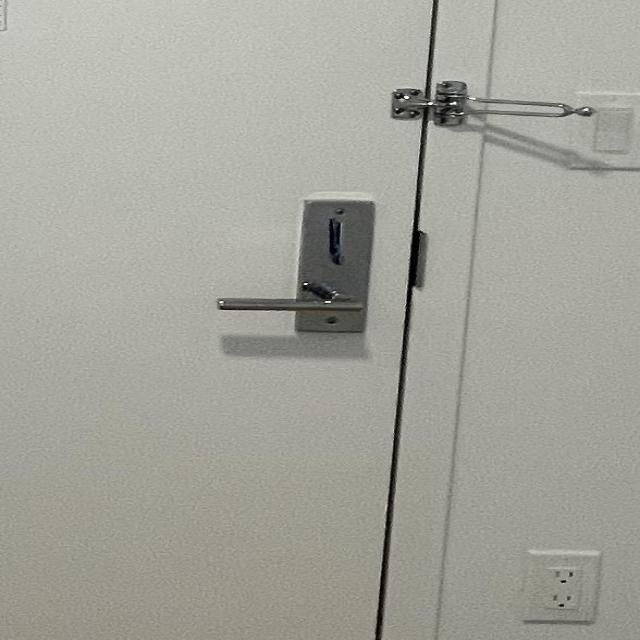door_handle: (205, 272, 394, 331)
